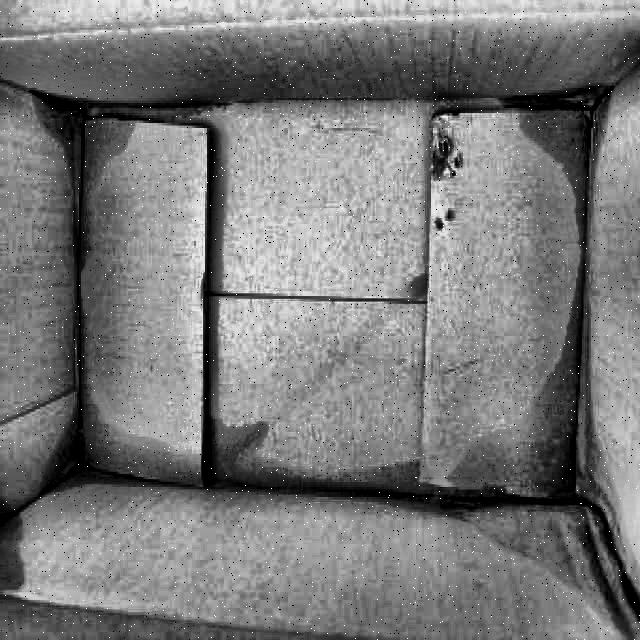box: (0, 0, 640, 640)
wet: (452, 389, 628, 601), (21, 381, 149, 509), (510, 65, 607, 196), (35, 88, 122, 228)
